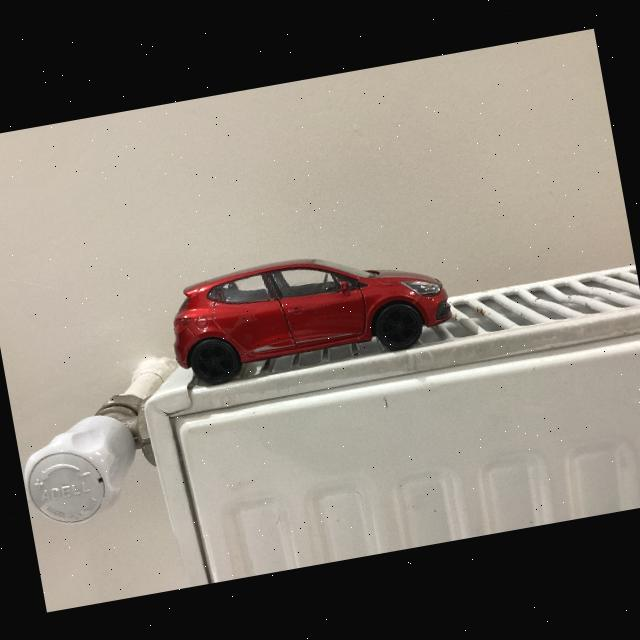Dogru_Jant: (374, 304, 421, 351), (192, 340, 235, 382)
